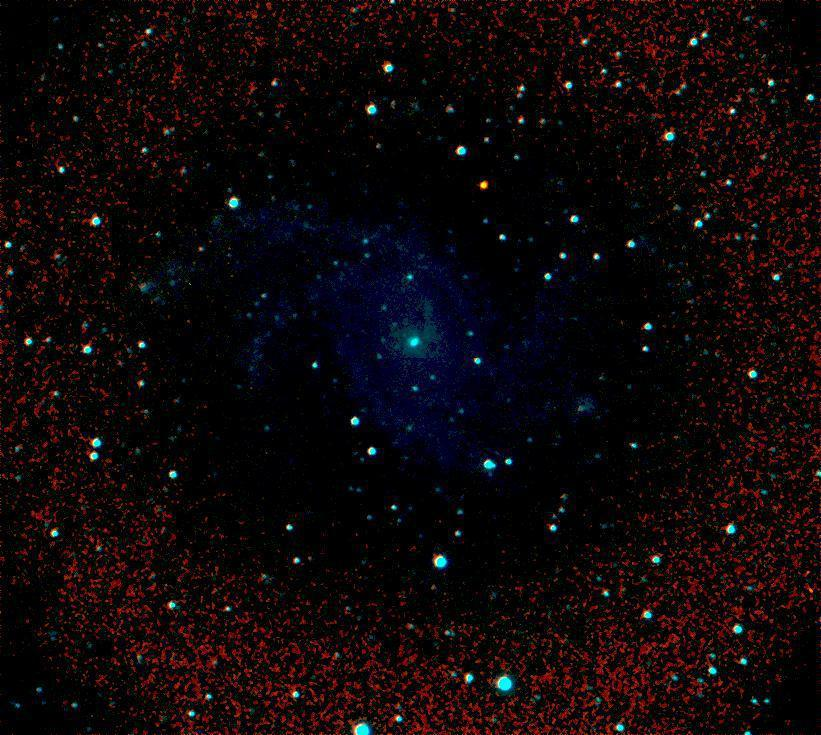star: (470, 168, 500, 198)
